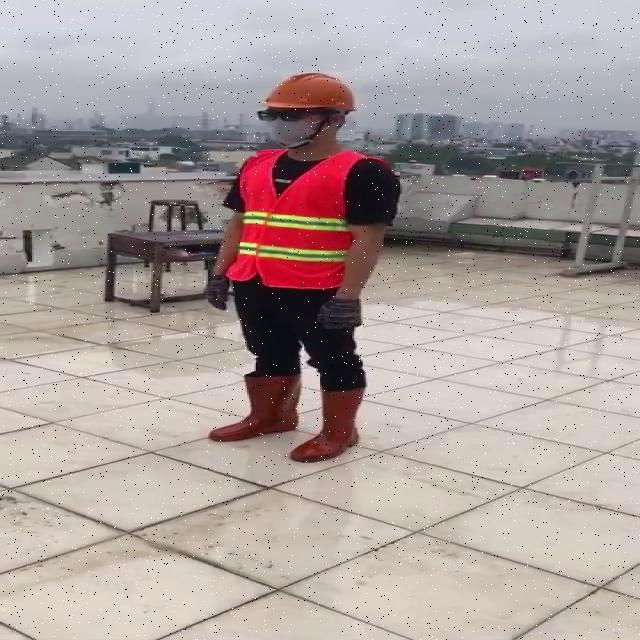Hard_hat: (251, 69, 364, 123)
Person: (203, 63, 407, 597)
Vest: (235, 144, 355, 289)
